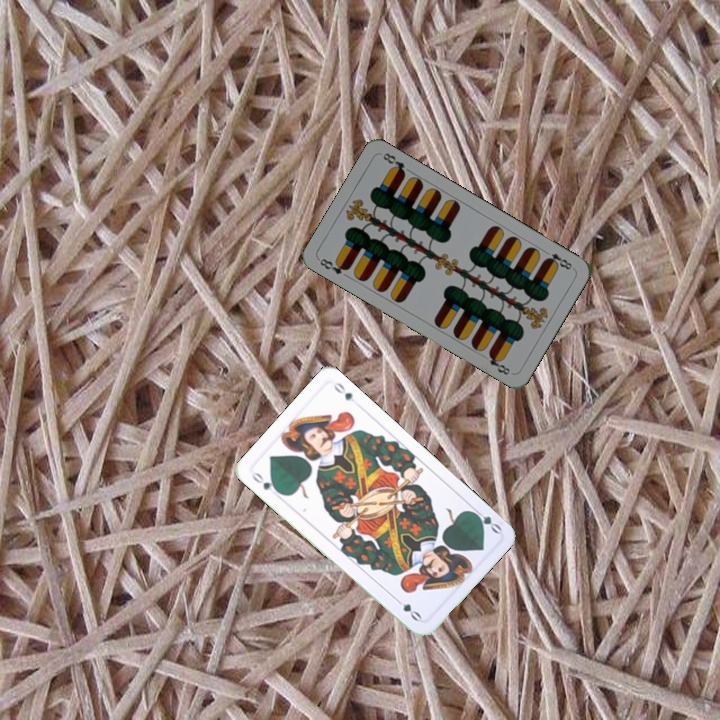E8: (540, 246, 576, 272), (316, 254, 352, 277)
GO: (467, 504, 504, 536), (248, 467, 283, 498)
